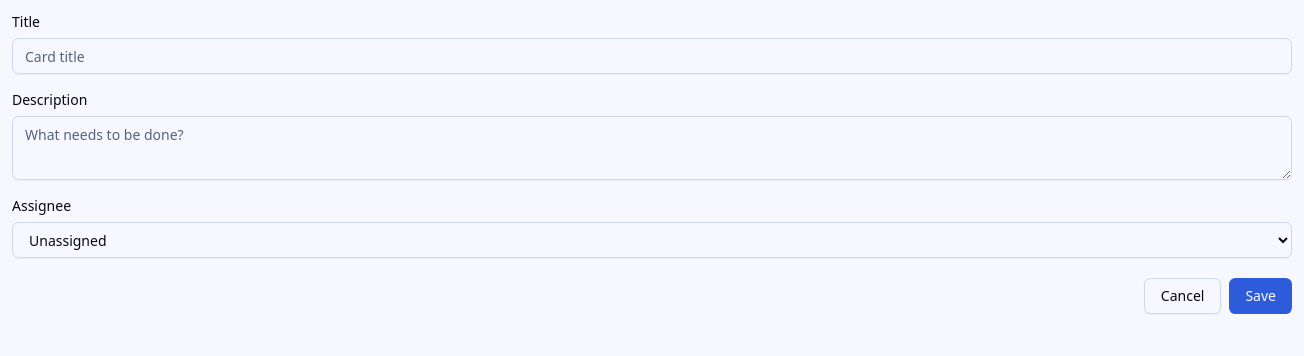
Test case: CardForm › shows a validation error when title is empty
Click the button with test id "form-submit" at (1261, 296), box [1229, 278, 1292, 314]
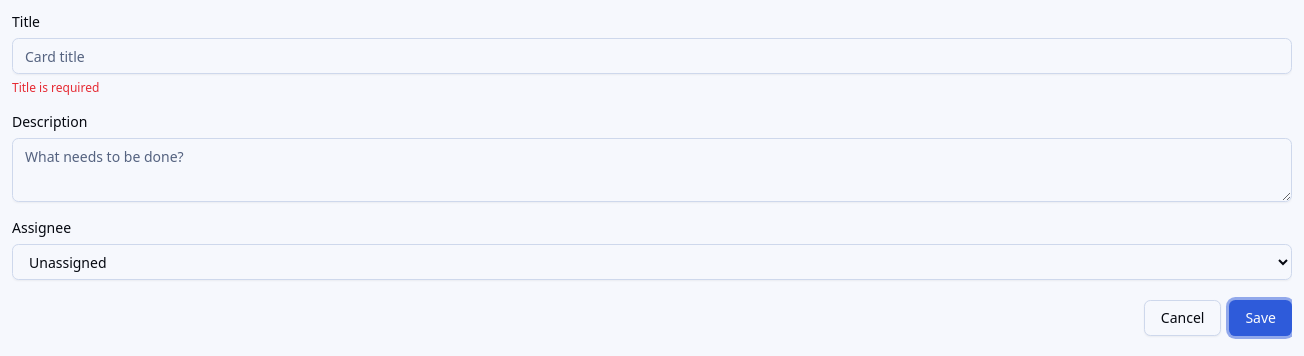
Check: the text "Title is required" is shown, box [12, 79, 99, 96]
